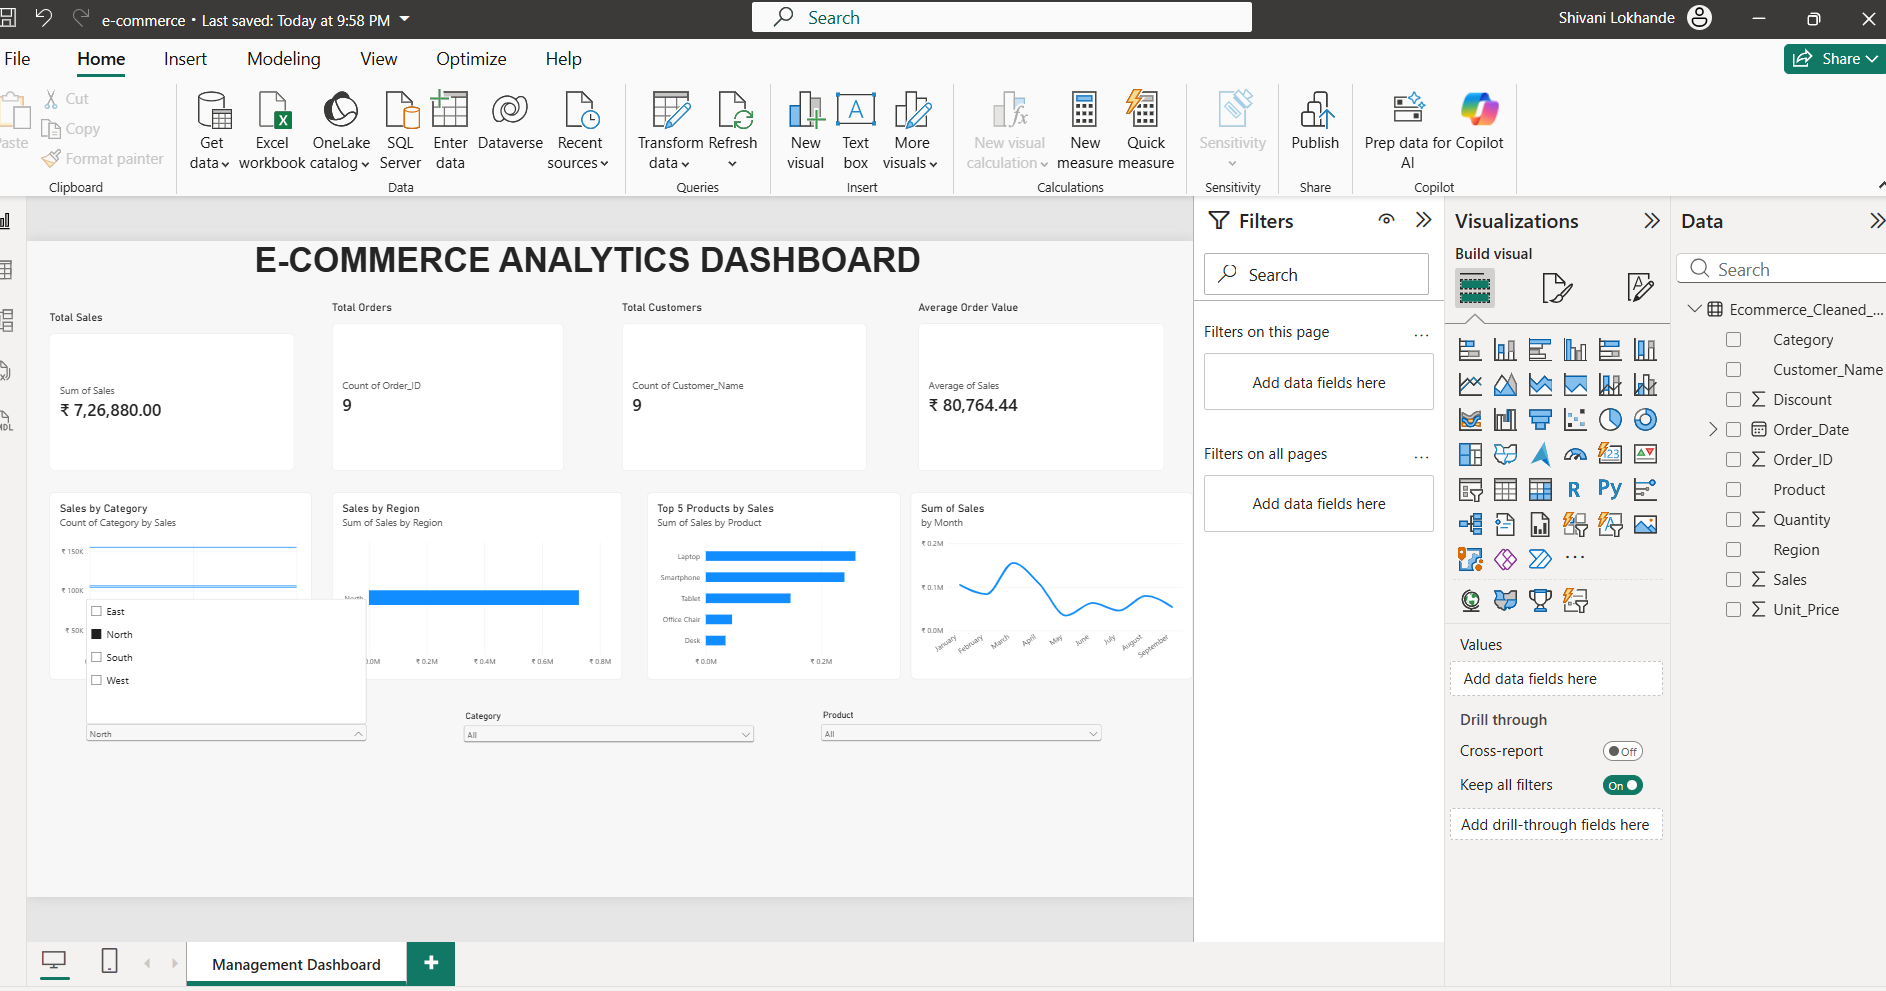

This screenshot's page, from the dashboard's own definition file:
{"tool":"powerbi","page":{"name":"Management Dashboard","canvas":[1920,1080],"ordinal":0},"visuals":[{"type":"cardVisual","title":"Total Sales","fields":{"Data":["Sum(Ecommerce_Cleaned_Sales_Data.Sales)"]},"box":[37,115.3,403.4,263.5],"z":0},{"type":"cardVisual","title":"Total Orders","fields":{"Data":["Count(Ecommerce_Cleaned_Sales_Data.Order_ID)"]},"box":[502.2,98.8,382.8,279.9],"z":1},{"type":"textbox","box":[374.6,0,1148.5,98.8],"z":3},{"type":"cardVisual","title":"Total Customers","fields":{"Data":["Count(Ecommerce_Cleaned_Sales_Data.Customer_Name)"]},"box":[979.8,98.8,403.4,279.9],"z":5},{"type":"cardVisual","title":"Average Order Value","fields":{"Data":["Avg(Ecommerce_Cleaned_Sales_Data.Sales)"]},"box":[1467.6,98.8,405.5,279.9],"z":6},{"type":"clusteredBarChart","title":"Sales by Category","fields":{"Category":["Ecommerce_Cleaned_Sales_Data.Sales"],"Y":["CountNonNull(Ecommerce_Cleaned_Sales_Data.Category)"]},"box":[37,413.7,432.2,308.7],"z":7},{"type":"clusteredBarChart","title":"Sales by Region","fields":{"Category":["Ecommerce_Cleaned_Sales_Data.Region"],"Y":["Sum(Ecommerce_Cleaned_Sales_Data.Sales)"]},"box":[502.2,413.7,477.5,308.7],"z":8},{"type":"lineChart","fields":{"Category":["Ecommerce_Cleaned_Sales_Data.Order_Date.Variation.Date Hierarchy.Month"],"Y":["Sum(Ecommerce_Cleaned_Sales_Data.Sales)"]},"box":[1455.2,413.7,465,308],"z":9},{"type":"clusteredBarChart","title":"Top 5 Products by Sales","fields":{"Category":["Ecommerce_Cleaned_Sales_Data.Product"],"Y":["Sum(Ecommerce_Cleaned_Sales_Data.Sales)"]},"box":[1020.9,413.7,417.8,308.7],"z":10},{"type":"slicer","fields":{"Values":["Ecommerce_Cleaned_Sales_Data.Region"]},"box":[92.6,771.9,471.4,253.2],"z":11},{"type":"slicer","fields":{"Values":["Ecommerce_Cleaned_Sales_Data.Category"]},"box":[714.2,773.9,487.8,216.1],"z":12},{"type":"slicer","fields":{"Values":["Ecommerce_Cleaned_Sales_Data.Product"]},"box":[1302.9,771.9,471.4,253.2],"z":13}]}

Visuals, with their boxes on the page's 1920x1080 design canvas (x1, y1, x2, y2). These are canvas units, not pixel positions in the 1886x991 screenshot, which may show the page scaled, cropped or inside an application window:
"Total Sales" cardVisual: {"left": 37, "top": 115, "right": 440, "bottom": 379}
"Total Orders" cardVisual: {"left": 502, "top": 99, "right": 885, "bottom": 379}
textbox: {"left": 375, "top": 0, "right": 1523, "bottom": 99}
"Total Customers" cardVisual: {"left": 980, "top": 99, "right": 1383, "bottom": 379}
"Average Order Value" cardVisual: {"left": 1468, "top": 99, "right": 1873, "bottom": 379}
"Sales by Category" clusteredBarChart: {"left": 37, "top": 414, "right": 469, "bottom": 722}
"Sales by Region" clusteredBarChart: {"left": 502, "top": 414, "right": 980, "bottom": 722}
lineChart - Ecommerce_Cleaned_Sales_Data.Order_Date.Variation.Date Hierarchy.Month x Sum(Ecommerce_Cleaned_Sales_Data.Sales): {"left": 1455, "top": 414, "right": 1920, "bottom": 722}
"Top 5 Products by Sales" clusteredBarChart: {"left": 1021, "top": 414, "right": 1439, "bottom": 722}
slicer - Ecommerce_Cleaned_Sales_Data.Region: {"left": 93, "top": 772, "right": 564, "bottom": 1025}
slicer - Ecommerce_Cleaned_Sales_Data.Category: {"left": 714, "top": 774, "right": 1202, "bottom": 990}
slicer - Ecommerce_Cleaned_Sales_Data.Product: {"left": 1303, "top": 772, "right": 1774, "bottom": 1025}
